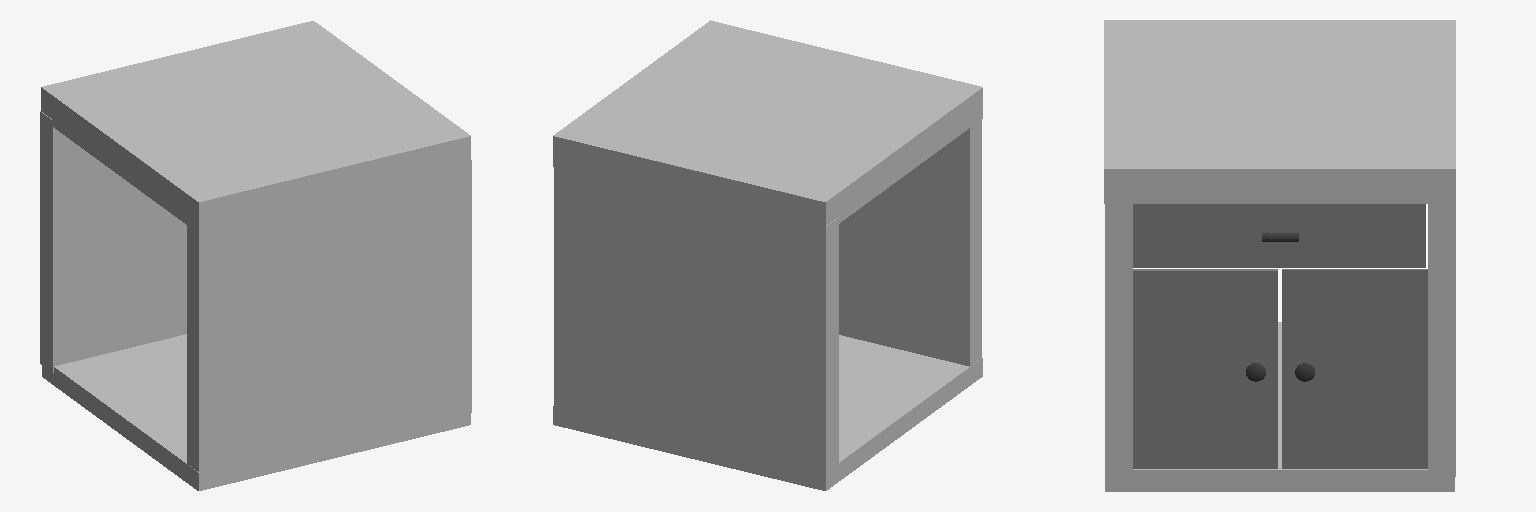
URDF robot description (my_urdf):
<?xml version='1.0' encoding='utf-8'?>
<robot name="my_urdf">

  <link name="base_link">
    <visual>
      <origin xyz="0 0 0" rpy="0.0 0.0 0.0" />
      <material name="white">
        <color rgba="0.8 0.8 0.8 1" />
      </material>
      <geometry>
        <mesh filename="../meshes/cabinet.obj" scale="1 1 1" />
      </geometry>
    </visual>
    <collision>
      <origin xyz="0 0 0" rpy="0.0 0.0 0.0" />
      <geometry>
        <mesh filename="../meshes/cabinet.obj" scale="1 1 1" />
      </geometry>
    </collision>
    <inertial>
      <mass value="1" />
      <inertia ixx="1e-4" ixy="0" ixz="0" iyy="1e-4" iyz="0" izz="1e-4" />
    </inertial>
  </link>

  <link name="drawer0">
    <visual>
      <origin xyz="0 0 0" rpy="0 0 0" />
        <material name="grey">
            <color rgba="0.55 0.55 0.55 1" />
        </material>
      <geometry>
        <mesh filename="../meshes/parts/drawer.obj" scale="1 3.98 0.98" />
      </geometry>
    </visual>
    <collision>
      <origin xyz="0 0 0" rpy="0 0 0" />
      <geometry>
        <mesh filename="../meshes/parts/drawer.obj" scale="1 3.98 0.98" />
      </geometry>
      <contact>
        <friction>
          <mu>0.8</mu>
          <mu2>0.8</mu2>
        </friction>
      </contact>
    </collision>
    <inertial>
      <mass value="0.2" />
      <inertia ixx="1e-4" ixy="0" ixz="0" iyy="1e-4" iyz="0" izz="1e-4" />
    </inertial>
  </link>

  <joint name="drawer0_to_base_link" type="prismatic">
    <axis xyz="1 0 0" />
    <limit effort="5" lower="0" upper="0.4" velocity="2.283" />
    <origin xyz="0 0.0 0.75" rpy="0.0 0.0 0.0" />
    <parent link="base_link" />
    <child link="drawer0" />
  </joint>

  <link name="doorR1">
    <visual>
      <origin xyz="0 0 0" rpy="0 0 0" />
        <material name="grey">
            <color rgba="0.55 0.55 0.55 1" />
        </material>
      <geometry>
        <mesh filename="../meshes/parts/doorR.obj" scale="1 1.99 2.99" />
      </geometry>
    </visual>
    <collision>
      <origin xyz="0 0 0" rpy="0 0 0" />
      <geometry>
        <mesh filename="../meshes/parts/doorR.obj" scale="1 1.99 2.99" />
      </geometry>
    </collision>
    <inertial>
      <mass value="0.2" />
      <inertia ixx="1e-4" ixy="0" ixz="0" iyy="1e-4" iyz="0" izz="1e-4" />
    </inertial>
  </link>

  <joint name="doorR1_to_base_link" type="revolute">
    <axis xyz="0 0 1" />
    <limit effort="5" lower="0" upper="1.57" velocity="2.283" />
    <origin xyz="0 1.0 0.0" rpy="-0.0 -0.0 -0.0" />
    <parent link="base_link" />
    <child link="doorR1" />
  </joint>

  <link name="doorL2">
    <visual>
      <origin xyz="0 0 0" rpy="0 0 0" />
        <material name="grey">
            <color rgba="0.55 0.55 0.55 1" />
        </material>
      <geometry>
        <mesh filename="../meshes/parts/doorL.obj" scale="1 1.99 2.99" />
      </geometry>
    </visual>
    <collision>
      <origin xyz="0 0 0" rpy="0 0 0" />
      <geometry>
        <mesh filename="../meshes/parts/doorL.obj" scale="1 1.99 2.99" />
      </geometry>
    </collision>
    <inertial>
      <mass value="0.2" />
      <inertia ixx="1e-4" ixy="0" ixz="0" iyy="1e-4" iyz="0" izz="1e-4" />
    </inertial>
  </link>

  <joint name="doorL2_to_base_link" type="revolute">
    <axis xyz="0 0 1" />
    <limit effort="5" lower="-1.57" upper="0" velocity="2.283" />
    <origin xyz="0 0.0 0.0" rpy="0.0 0.0 0.0" />
    <parent link="base_link" />
    <child link="doorL2" />
  </joint>

  <link name="handle3">
    <visual>
      <origin xyz="0 0 0" rpy="0 0 0" />
            <material name="dark grey"><color rgba="0.3 0.3 0.3 1"/></material>

      <geometry>
        <mesh filename="../meshes/parts/handle.obj" scale="1 1 1" />
      </geometry>
    </visual>
    <collision>
      <origin xyz="0.06 0 0" rpy="0 0 0" />
      <geometry>
        <mesh filename="../meshes/parts/handle.obj" scale="1 1 1" />
      </geometry>
      <contact>
        <friction>
          <mu>0.8</mu>
          <mu2>0.8</mu2>
        </friction>
      </contact>
    </collision>
    <inertial>
      <mass value="0.2" />
      <inertia ixx="1e-4" ixy="0" ixz="0" iyy="1e-4" iyz="0" izz="1e-4" />
    </inertial>
  </link>

  <joint name="knob3_to_drawer0" type="fixed">
    <axis xyz="0 0 1" />
    <limit effort="5" lower="-1.57" upper="0" velocity="2.283" />
    <origin xyz="0 0.5 0.125" rpy="1.5707963267948963 0.0 0.0" />
    <parent link="drawer0" />
    <child link="handle3" />
  </joint>

  <link name="knob4">
    <visual>
      <origin xyz="0 0 0" rpy="0 0 0" />
             <material name="dark grey"><color rgba="0.3 0.3 0.3 1"/></material>

      <geometry>
        <mesh filename="../meshes/parts/knob.obj" scale="1 1 1" />
      </geometry>
    </visual>
    <collision>
      <origin xyz="0.06 0 0" rpy="0 0 0" />
      <geometry>
        <mesh filename="../meshes/parts/knob.obj" scale="1 1 1" />
      </geometry>
    </collision>
    <inertial>
      <mass value="0.2" />
      <inertia ixx="1e-4" ixy="0" ixz="0" iyy="1e-4" iyz="0" izz="1e-4" />
    </inertial>
  </link>

  <joint name="knob4_to_doorR1" type="fixed">
    <axis xyz="1 0 0" />
    <limit effort="5" lower="-1.57" upper="0" velocity="2.283" />
    <origin xyz="0 -0.4166666666666667 0.375" rpy="0.0 0.0 0.0" />
    <parent link="doorR1" />
    <child link="knob4" />
  </joint>

  <link name="knob5">
    <visual>
      <origin xyz="0 0 0" rpy="0 0 0" />
            <material name="dark grey"><color rgba="0.3 0.3 0.3 1"/></material>

      <geometry>
        <mesh filename="../meshes/parts/knob.obj" scale="1 1 1" />
      </geometry>
    </visual>
    <collision>
      <origin xyz="0.06 0 0" rpy="0 0 0" />
      <geometry>
        <mesh filename="../meshes/parts/knob.obj" scale="1 1 1" />
      </geometry>
    </collision>
    <inertial>
      <mass value="0.2" />
      <inertia ixx="1e-4" ixy="0" ixz="0" iyy="1e-4" iyz="0" izz="1e-4" />
    </inertial>
  </link>

  <joint name="knob5_to_doorL2" type="fixed">
    <axis xyz="1 0 0" />
    <limit effort="5" lower="-1.57" upper="0" velocity="2.283" />
    <origin xyz="0 0.4166666666666667 0.375" rpy="0.0 0.0 0.0" />
    <parent link="doorL2" />
    <child link="knob5" />
  </joint>

</robot>

--- Facts derived from the render (not from the file) ---
3 views of the same robot in one strip: view 1: azimuth 30°, elevation 25°; view 2: azimuth 150°, elevation 25°; view 3: azimuth 270°, elevation 25° (orthographic).
Robot: my_urdf — 7 links, 6 joints (2 revolute, 1 prismatic, 3 fixed); root link base_link; default pose: all joints at 0.
Visible links, largest first — view 1: base_link; view 2: base_link; view 3: base_link, doorR1, doorL2, drawer0.
Link boxes in pixels (x1=…): base_link: x1=40, y1=21, x2=471, y2=490; base_link: x1=553, y1=20, x2=982, y2=490; base_link: x1=1104, y1=20, x2=1455, y2=491; doorR1: x1=1282, y1=269, x2=1427, y2=468; doorL2: x1=1133, y1=269, x2=1277, y2=468; drawer0: x1=1133, y1=204, x2=1425, y2=267.
Size in the robot's own frame: 1.23 by 1.19 by 1.21 metres.
Meshes: 6 distinct files referenced, 7 mesh visuals loaded (6 OBJ).